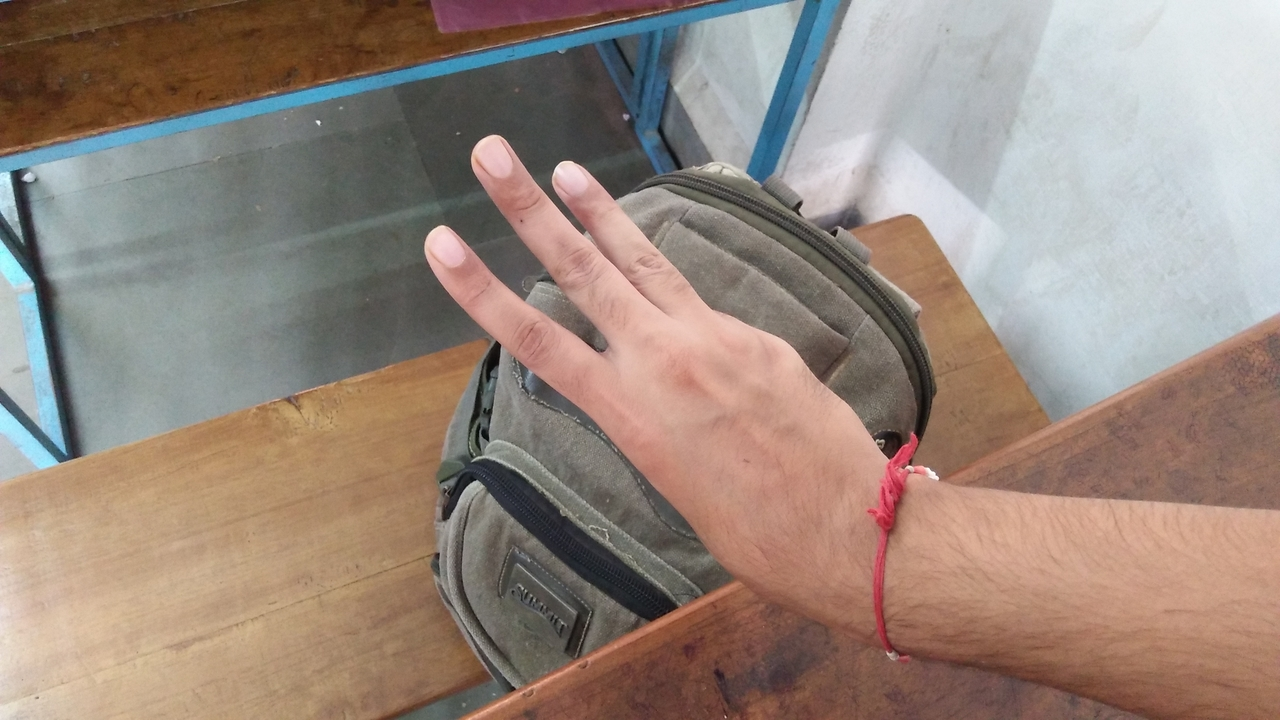fingertip: (412, 216, 478, 276), (460, 128, 530, 184), (542, 150, 612, 204)
